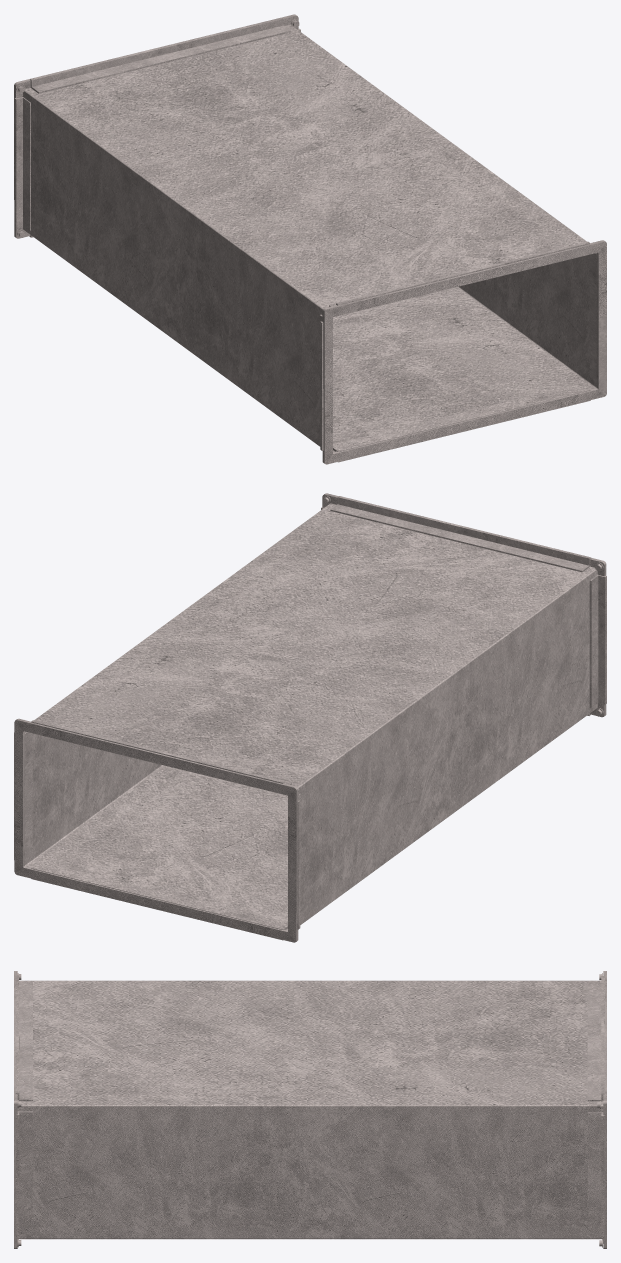
File: SM_Square_Ducting_01i.glb
The picture shows the model from 3 angles, top to bottom: view 1: azimuth 30°, elevation 25°; view 2: azimuth 150°, elevation 25°; view 3: azimuth 270°, elevation 25°; orthographic projection. The views are drawn at different scales.
Parts seen in each view (by area): view 1: SM_Square_Ducting_01i; view 2: SM_Square_Ducting_01i; view 3: SM_Square_Ducting_01i.
Boxes of the visible parts, bbox=[...] form: SM_Square_Ducting_01i: bbox=[14, 14, 606, 464]; SM_Square_Ducting_01i: bbox=[14, 493, 606, 942]; SM_Square_Ducting_01i: bbox=[14, 971, 606, 1248].
Bounding box in the file's own units: 1.06 × 0.5617 × 2.
1 material, 1 textured.
